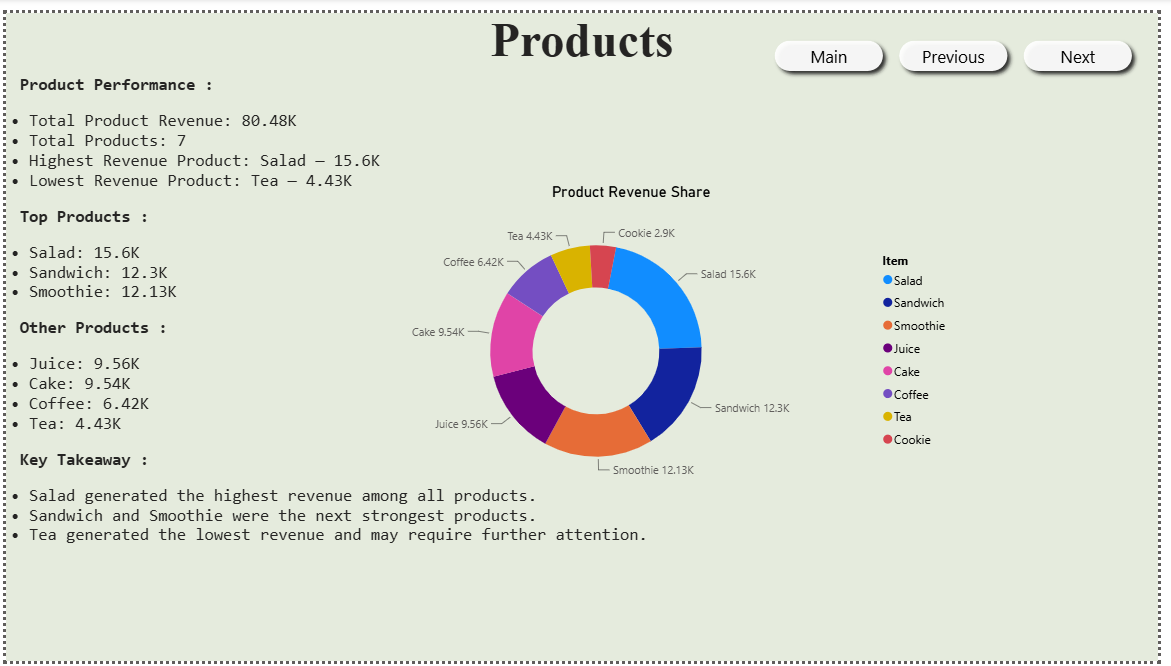

The page's visual inventory and layout, read from the dashboard file:
{"tool":"powerbi","page":{"name":"Products","canvas":[1280,720],"ordinal":3},"visuals":[{"type":"textbox","box":[0,0,1279.5,720.5],"z":0},{"type":"textbox","title":"Products","box":[0,0,1280,285],"z":1},{"type":"textbox","box":[0,62.5,1280,657.5],"z":2},{"type":"donutChart","title":"Product Revenue Share","fields":{"Category":["cleaned_cafe_sales.Item"],"Y":["Sum(cleaned_cafe_sales.Total_spent_calculated)"]},"box":[332,188,726,344],"z":3},{"type":"actionButton","box":[845.2,21,138.3,51.7],"z":4},{"type":"actionButton","box":[983.9,21,138.3,51.7],"z":5},{"type":"actionButton","box":[1121,21,138.3,51.7],"z":6}]}

Visuals, with their boxes in screenshot pixels (x1, y1, x2, y2), scaled from the page's 1280x720 canvas onto the 1171x666 screenshot:
textbox: {"x1": 0, "y1": 0, "x2": 1170, "y2": 665}
"Products" textbox: {"x1": 0, "y1": 0, "x2": 1170, "y2": 264}
textbox: {"x1": 0, "y1": 58, "x2": 1170, "y2": 665}
"Product Revenue Share" donutChart: {"x1": 304, "y1": 174, "x2": 968, "y2": 492}
actionButton: {"x1": 773, "y1": 19, "x2": 900, "y2": 67}
actionButton: {"x1": 900, "y1": 19, "x2": 1027, "y2": 67}
actionButton: {"x1": 1026, "y1": 19, "x2": 1152, "y2": 67}
